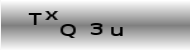3: (89, 22, 103, 35)
Q: (58, 23, 76, 38)
T: (28, 12, 42, 25)
u: (110, 26, 124, 36)
x: (44, 10, 58, 21)
